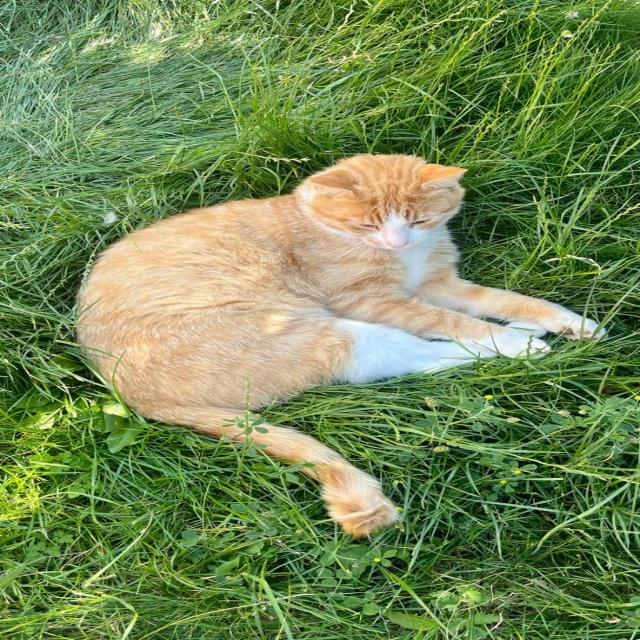sarman: (77, 154, 605, 441), (252, 423, 397, 535)
